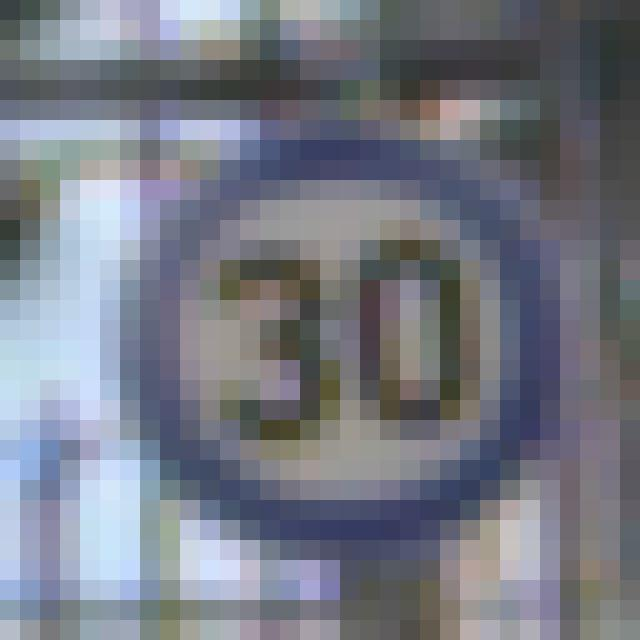SPEED LIMIT 30: (137, 162, 570, 546)
